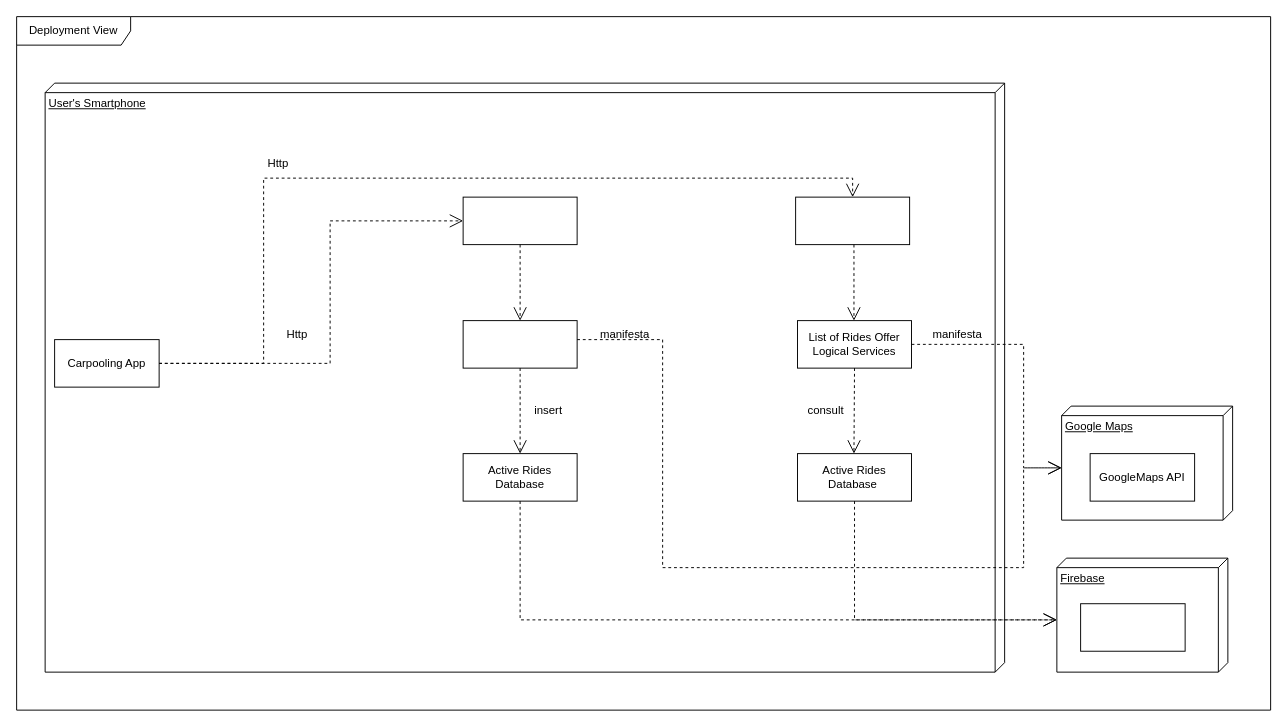
This 1287x727 diagram has some shape labels left out. The shapes that lost their labels are listed below. From the top down, each one's centre as x and y in pixels, then its label:
At [519,220]: "Rides Create Offer UI (Dart)".
At [852,220]: "List of Rides Offer UI (Dart)".
At [519,344]: "Rides Create Offer Logical Services".
At [1132,627]: "Firebase API".
